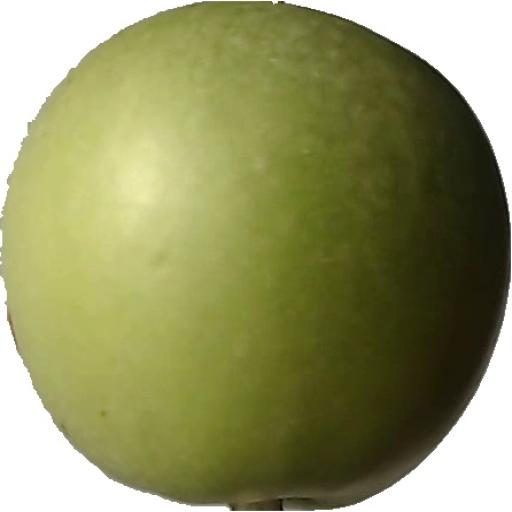apple-unripe: (3, 5, 511, 481)
